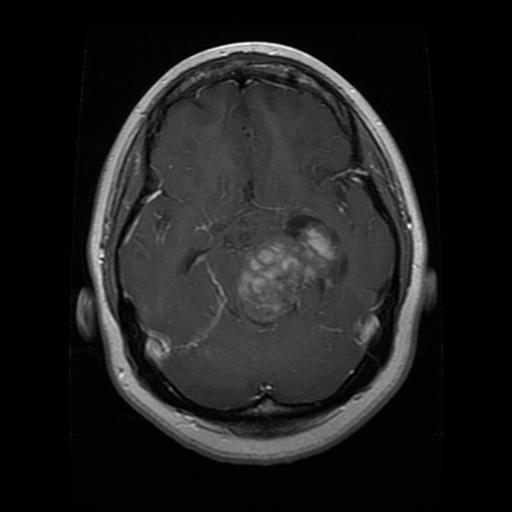Gliomia_tumour: (234, 207, 348, 319)
